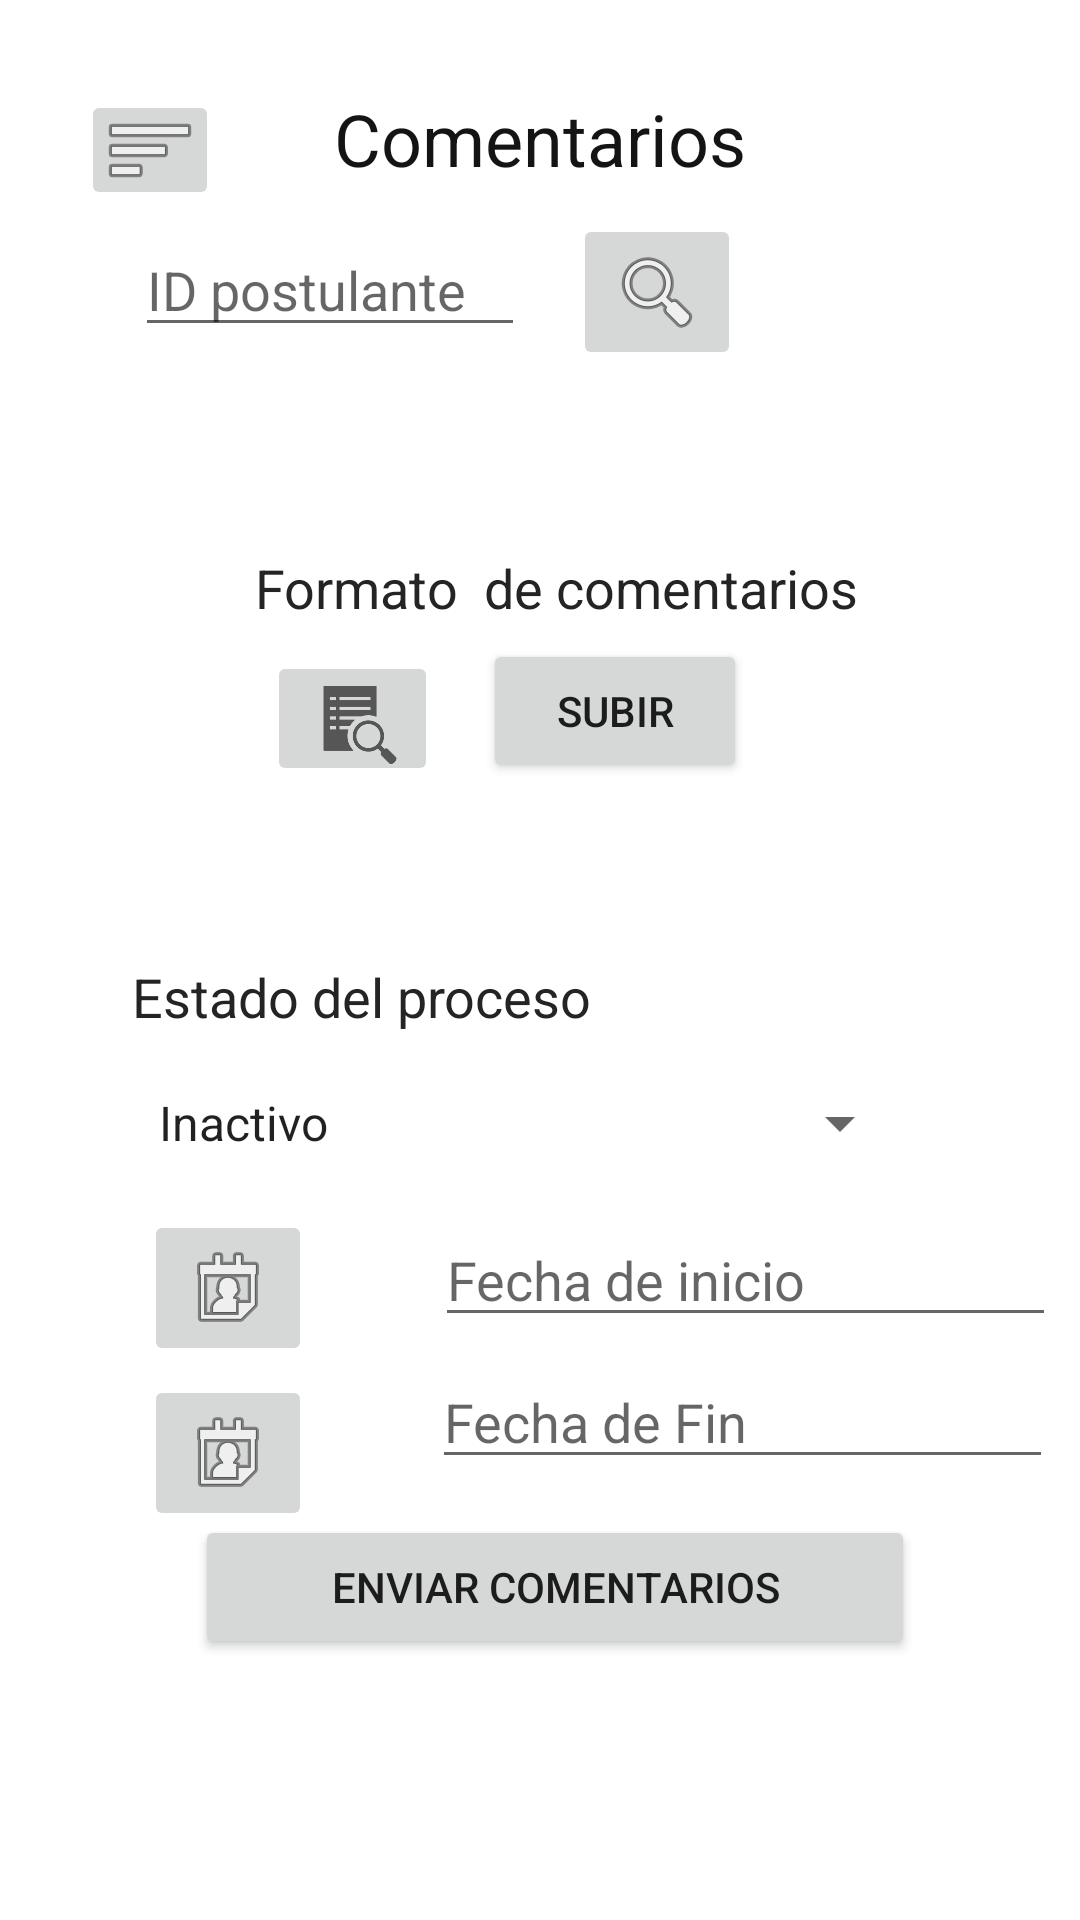

Screen size 1080x1920. Icon name, then its box in pixels as box=[x1, y1, x2, y2]:
calendar: box=[156, 1228, 300, 1348], box=[156, 1393, 300, 1513]
search: box=[585, 232, 729, 352]
sort by size: box=[93, 108, 207, 192]
